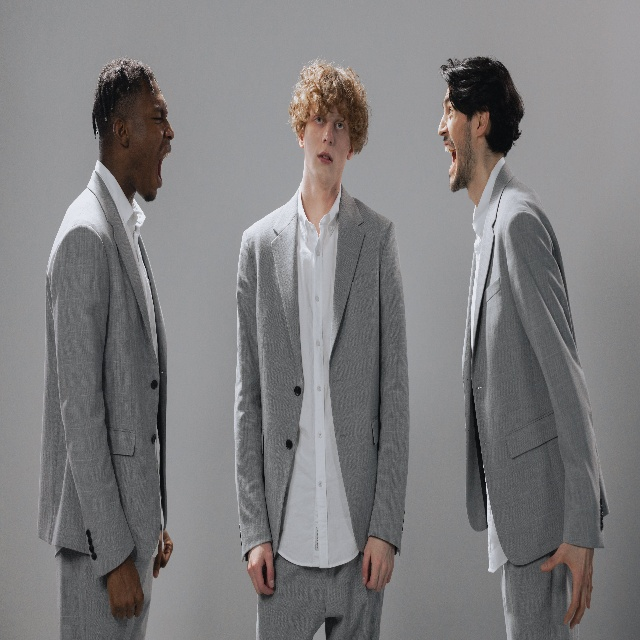Sin_guantes: (541, 544, 595, 630), (106, 559, 145, 620), (246, 539, 276, 596), (363, 537, 395, 589), (156, 531, 174, 581)
